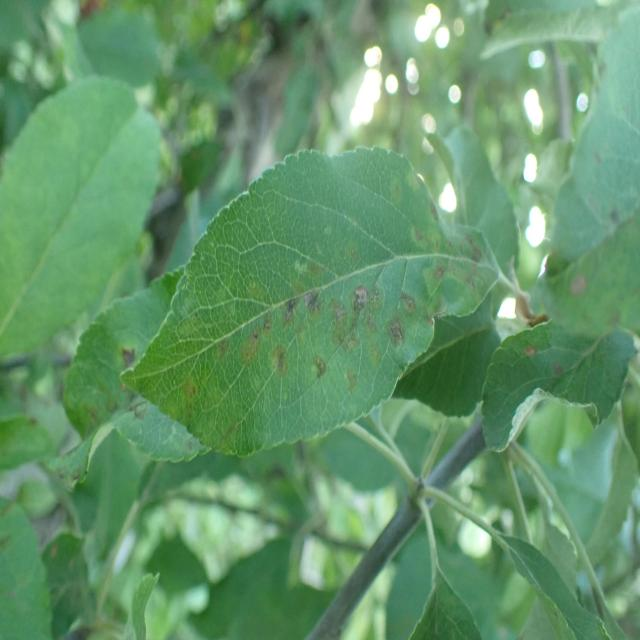scab: (153, 164, 496, 415), (508, 275, 636, 416), (39, 334, 154, 462)
